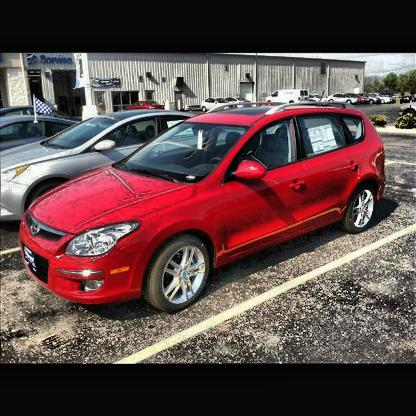Hyundai Elantra Touring Hatchback 2012: (19, 101, 387, 313)
